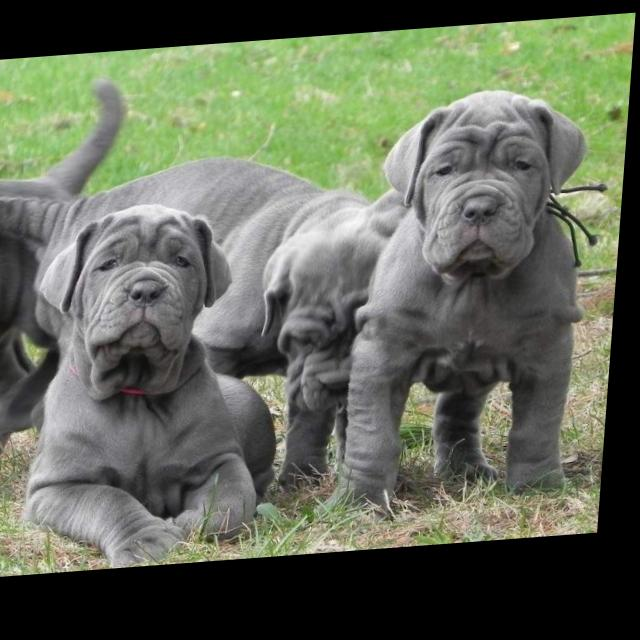mastino_napoletano: (1, 157, 416, 523), (322, 91, 619, 534), (20, 196, 300, 578), (1, 81, 134, 459)
